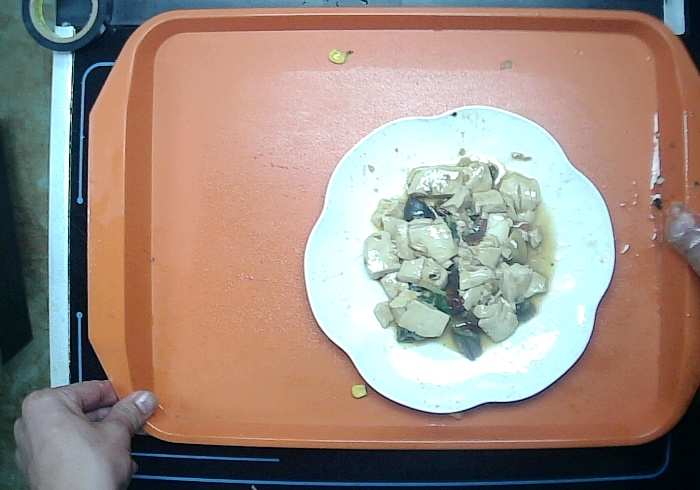HZYJPL-Bai_Se_Hua_Duo_Wan: (302, 104, 616, 415)
